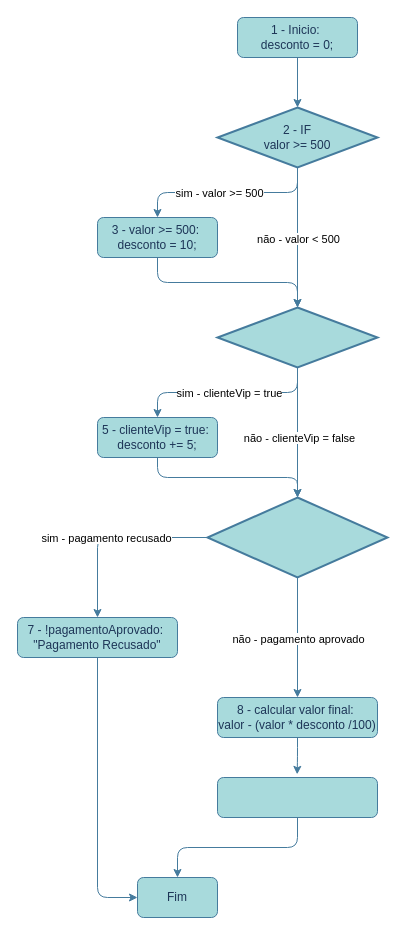
Some shapes in this 406 by 935 pixel diagram are drawn without their labels. The centre of each missing label's shape, as x and y in pixels:
4 - IF clienteVip = true: the point at 297,337
6 - IF !pagamentoAprovado: the point at 297,537
9 - retornar valor final: "Pedido aprovado + valor final": the point at 297,797
